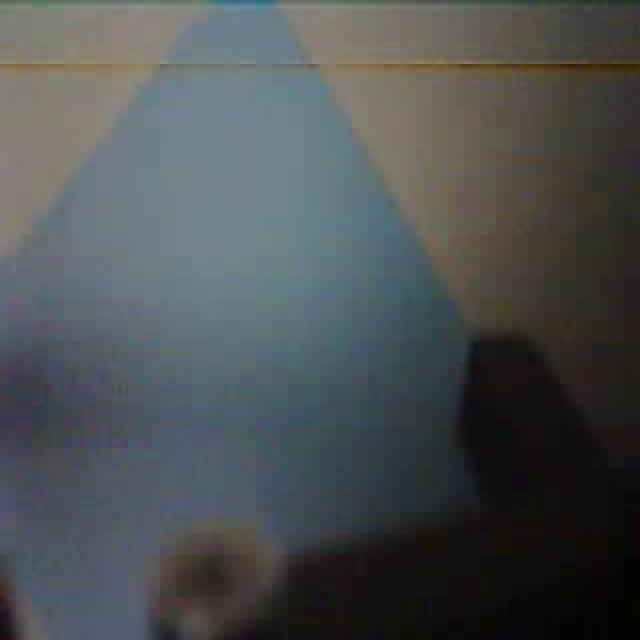blue_box: (0, 0, 482, 637)
